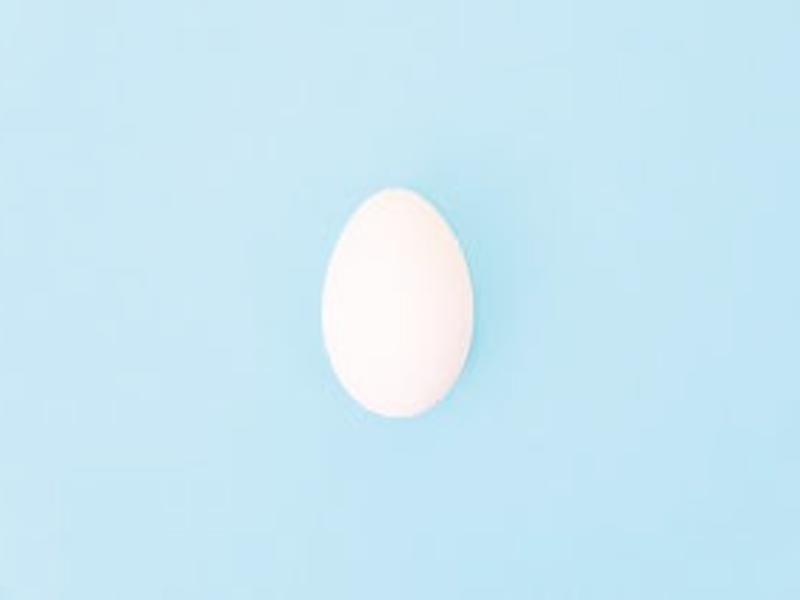Eggs: (324, 183, 474, 417)
